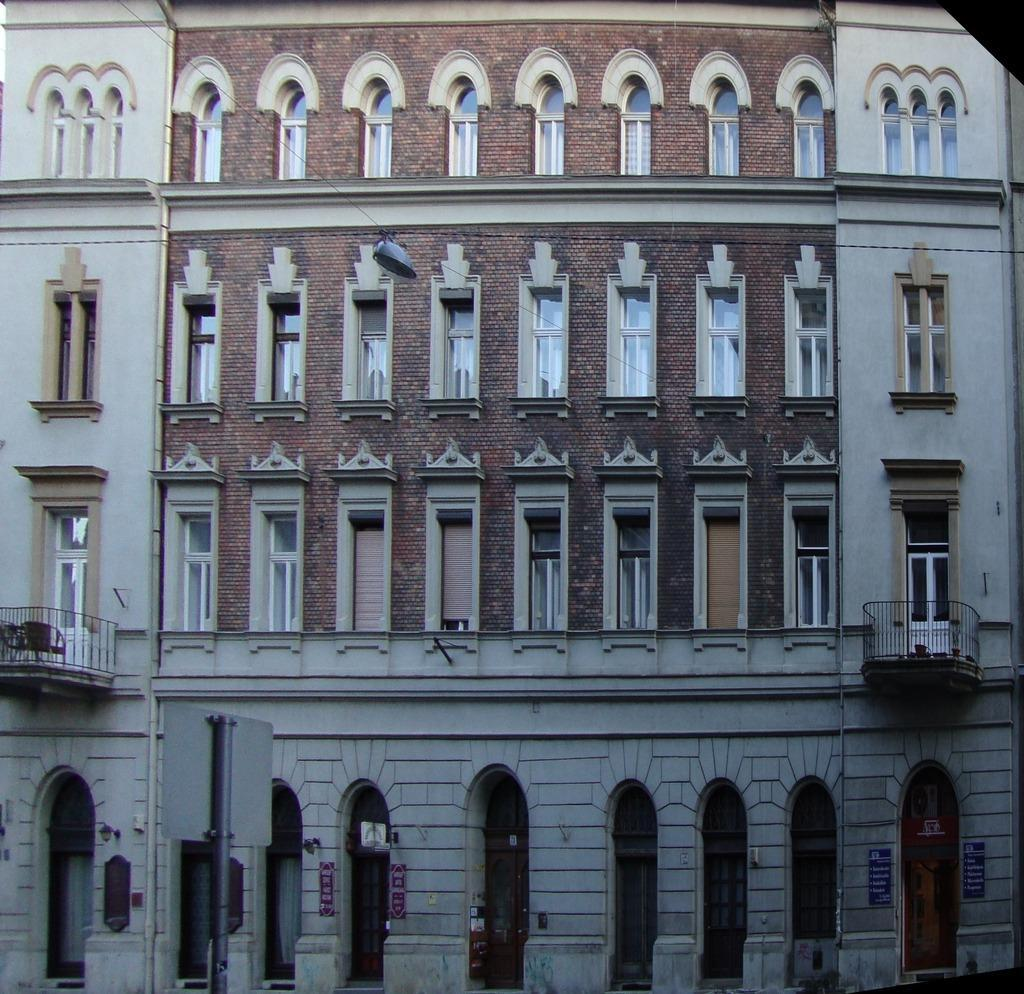window: (51, 851, 94, 980), (906, 505, 948, 627), (47, 508, 88, 630), (267, 852, 300, 981), (352, 511, 386, 633), (264, 511, 298, 633), (177, 511, 211, 633), (180, 854, 213, 979), (616, 508, 650, 629), (525, 510, 559, 631), (439, 510, 473, 631), (796, 509, 829, 627), (709, 510, 742, 628), (531, 287, 564, 399), (618, 288, 651, 400), (707, 287, 740, 399), (794, 288, 827, 400), (466, 772, 530, 829), (794, 856, 837, 940), (267, 295, 300, 403), (183, 296, 216, 403), (354, 292, 387, 399), (442, 292, 474, 399), (274, 79, 307, 180), (357, 79, 390, 180), (446, 76, 479, 177), (532, 76, 565, 177), (707, 77, 740, 178), (188, 82, 221, 182), (618, 74, 651, 174), (793, 79, 826, 179), (51, 776, 101, 827), (610, 785, 659, 836), (790, 780, 838, 831), (700, 783, 748, 834), (256, 788, 306, 831), (340, 786, 390, 828), (929, 287, 948, 393), (903, 286, 922, 392), (937, 92, 960, 179), (80, 291, 98, 402), (53, 293, 71, 404), (910, 88, 931, 177), (881, 86, 902, 175), (42, 90, 63, 179), (72, 89, 93, 178), (103, 86, 121, 179)
